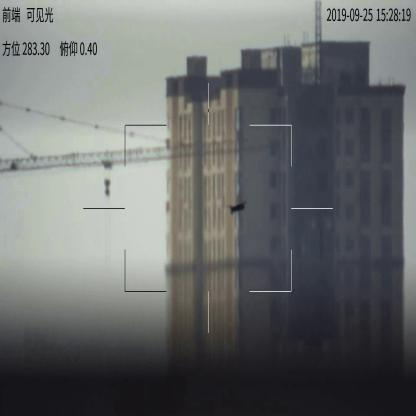uav: (231, 201, 246, 216)
